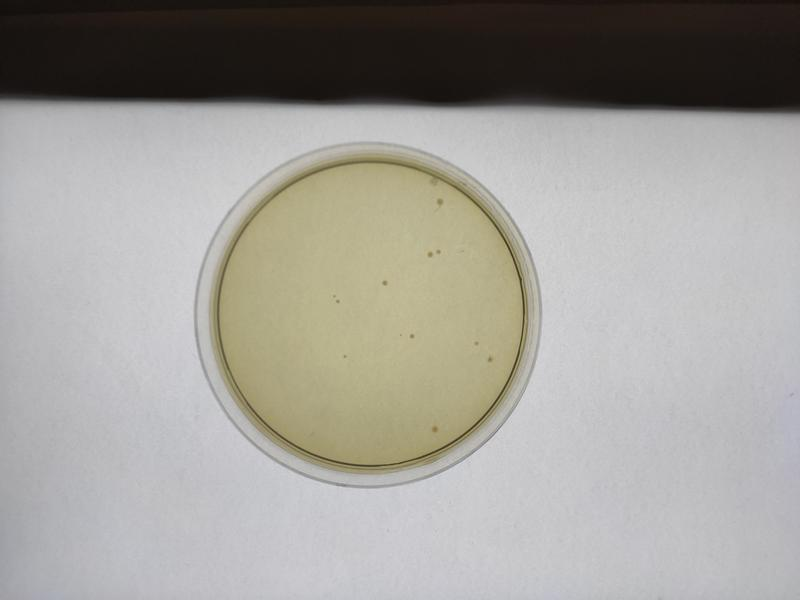colony: (468, 334, 481, 354), (426, 421, 441, 438), (404, 328, 418, 344), (431, 196, 447, 210), (485, 350, 496, 366), (378, 277, 390, 288)
